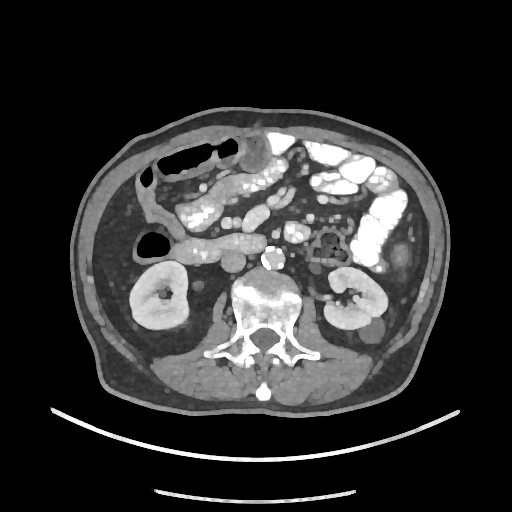Lesion: (354, 314, 388, 346)
